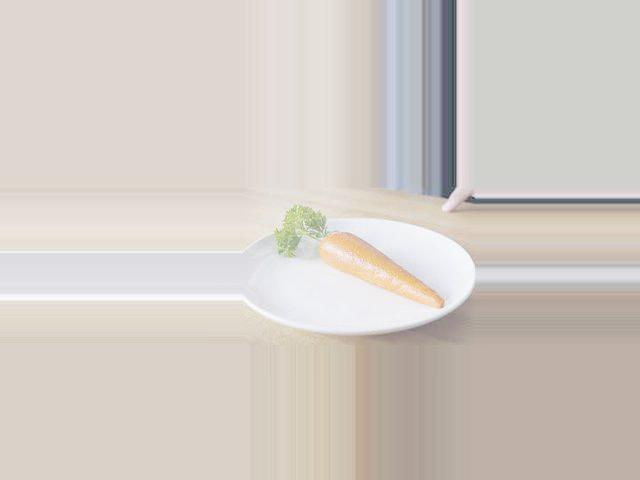carrot: (316, 230, 444, 314)
